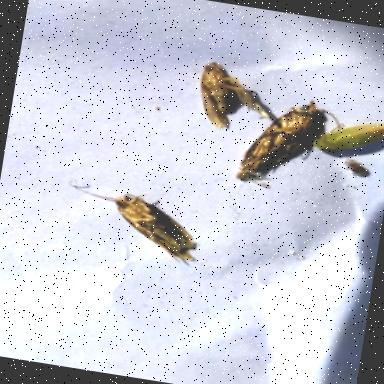pbw: (63, 180, 207, 266), (236, 88, 334, 194), (193, 57, 272, 134)
